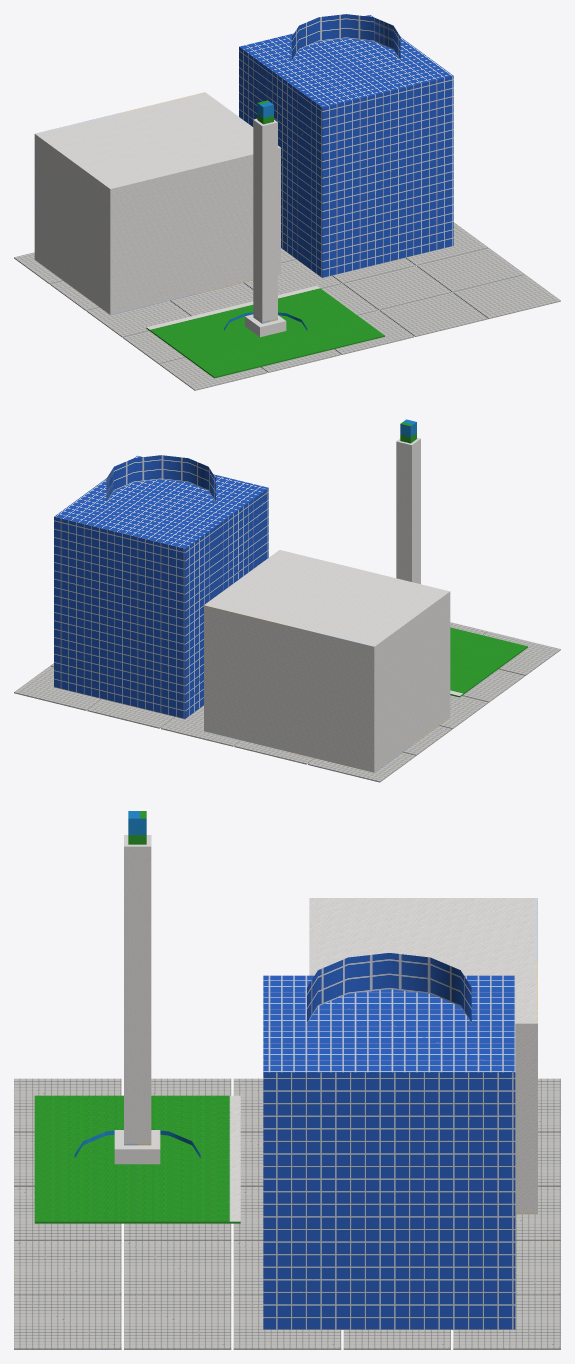
3 renders of one model, top to bottom at view 1: azimuth 30°, elevation 25°; view 2: azimuth 150°, elevation 25°; view 3: azimuth 270°, elevation 25°, orthographic. The views are drawn at different scales.
Visible parts, largest first — view 1: 28185_B23_INU_Songdo_Campus; view 2: 28185_B23_INU_Songdo_Campus; view 3: 28185_B23_INU_Songdo_Campus.
Boxes of the visible parts, left/top/right/bottom form: 28185_B23_INU_Songdo_Campus: left=14, top=14, right=560, bottom=390; 28185_B23_INU_Songdo_Campus: left=14, top=419, right=560, bottom=782; 28185_B23_INU_Songdo_Campus: left=14, top=811, right=560, bottom=1349.
Size of the model in its own units: 55.8 by 33.5 by 47.8.
Materials: 1 (1 with a texture image).
